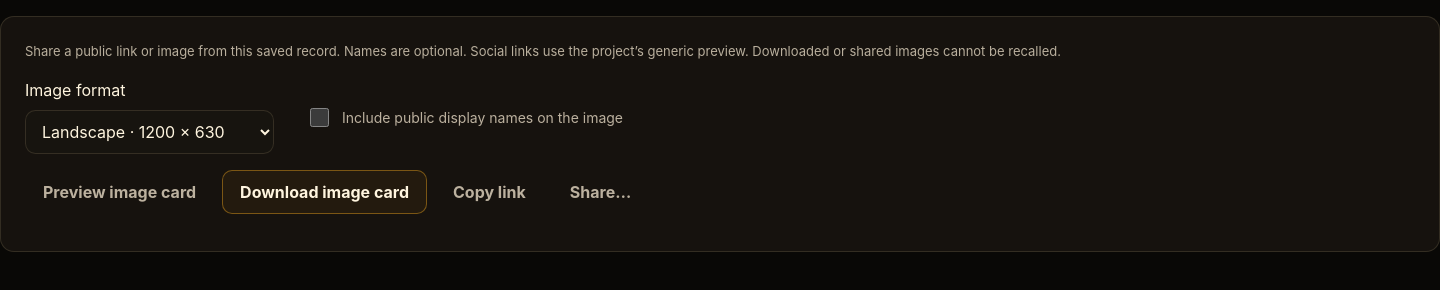
it: ShareActions › treats canceled native sharing as a cancellation and keeps the action available
Click the button "Share…" at x=600, y=192, box 552,170 -> 649,214
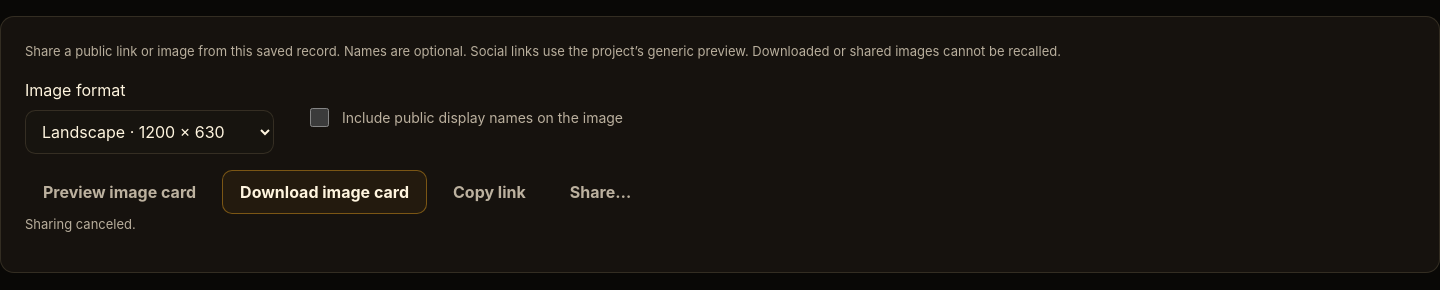
Now the message reads "Sharing canceled.", box 25,216 -> 136,232
